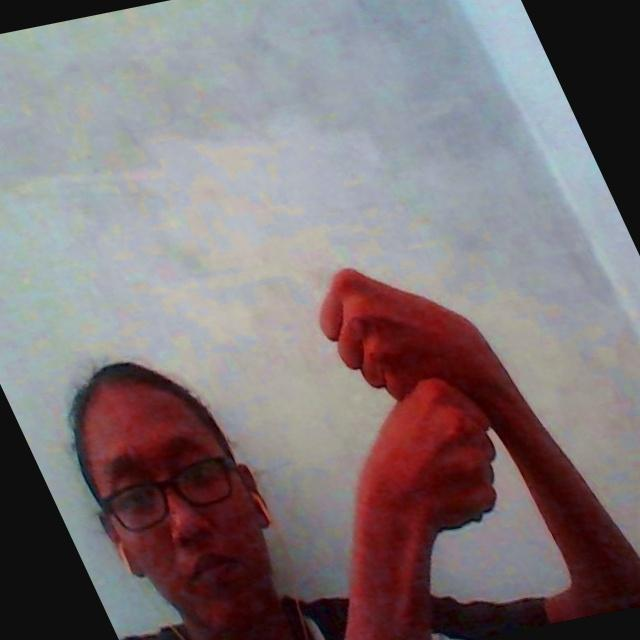G: (290, 240, 541, 589)
